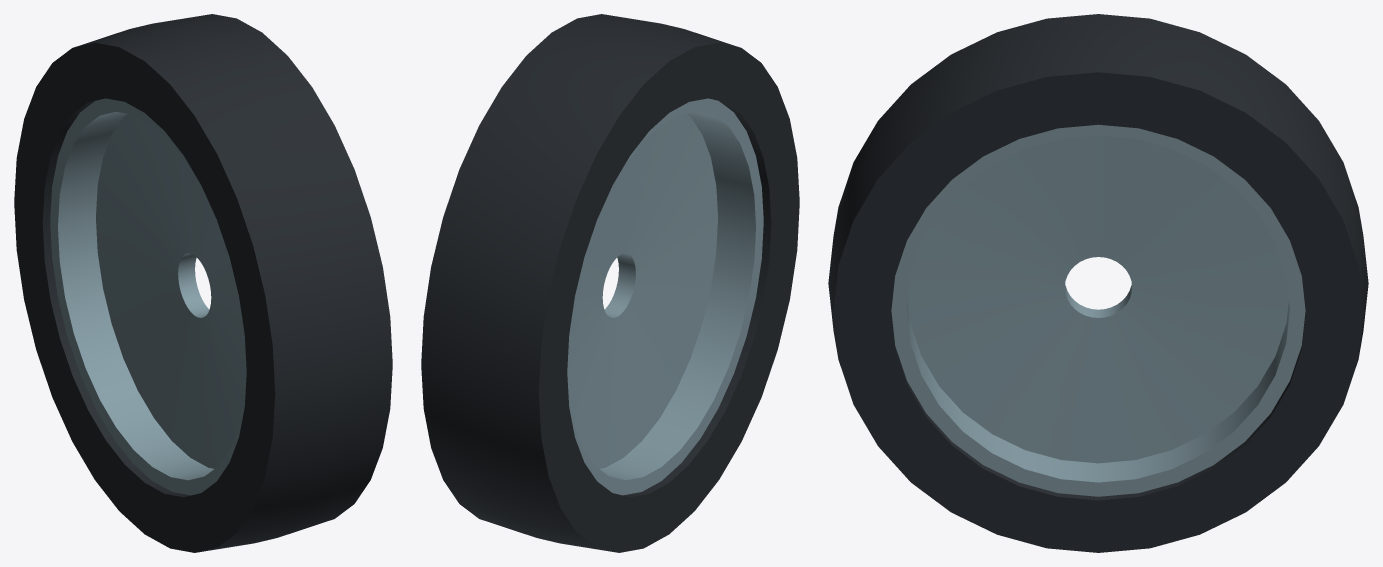
3 views of the same model, side by side, from view 1: azimuth 30°, elevation 25°; view 2: azimuth 150°, elevation 25°; view 3: azimuth 270°, elevation 25° (orthographic).
Visible parts, largest first — view 1: Visual; view 2: Visual; view 3: Visual.
Part boxes in pixels (x1,y1,x2,y2): Visual: (14, 14, 392, 552); Visual: (421, 14, 799, 552); Visual: (828, 14, 1368, 552).
Bounding box in the file's own units: 0.026 × 0.1019 × 0.1019.
